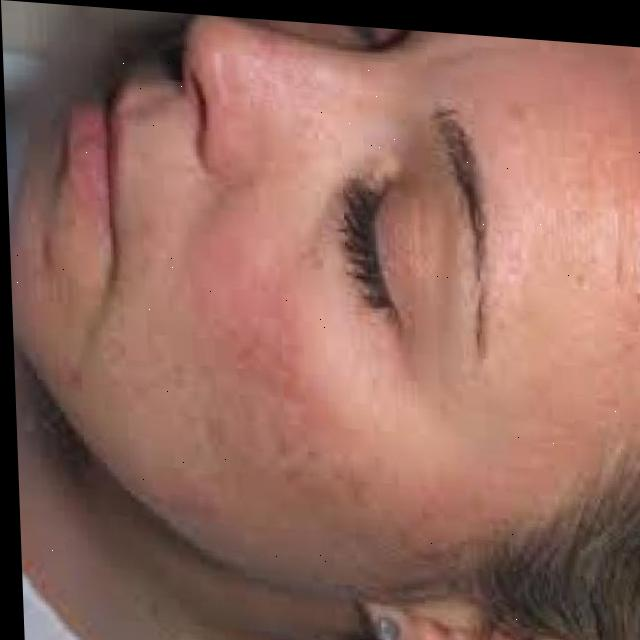Rosacea: (166, 205, 346, 468)
